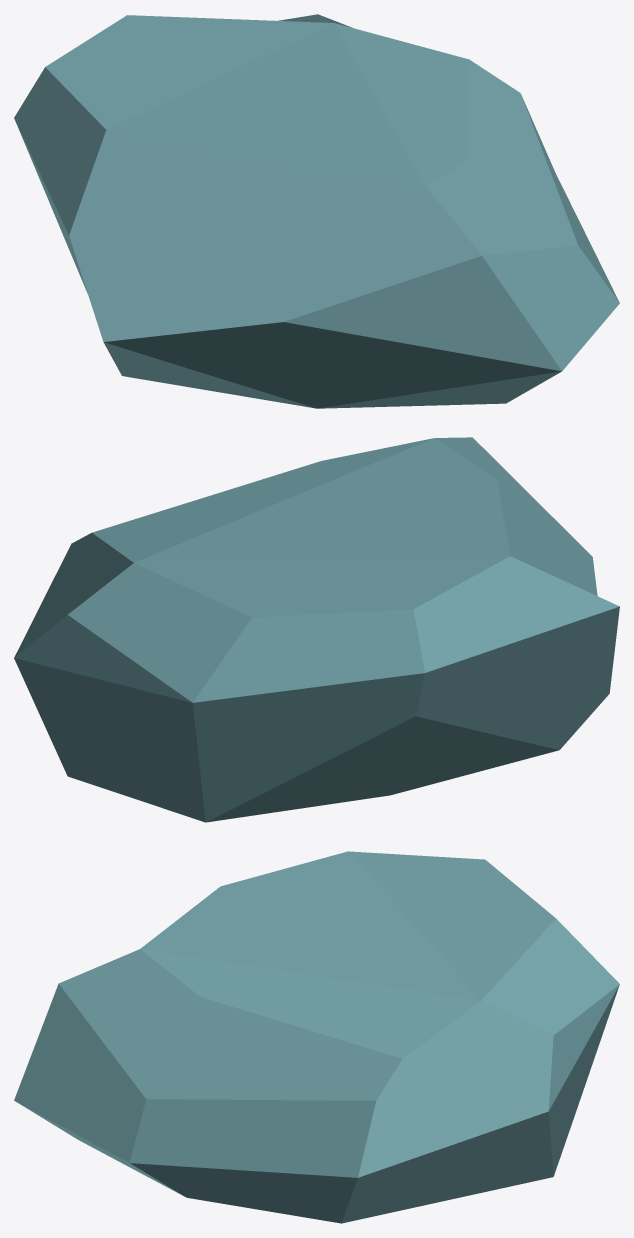
The model's file is RockC.fbx.
3 renders of one model, top to bottom at view 1: azimuth 30°, elevation 25°; view 2: azimuth 150°, elevation 25°; view 3: azimuth 270°, elevation 25°, orthographic. The views are drawn at different scales.
Parts seen in each view (by area): view 1: Cube.013; view 2: Cube.013; view 3: Cube.013.
Boxes of the visible parts, box(x1,y1,x2,y2) form: Cube.013: box(14, 14, 619, 408); Cube.013: box(14, 437, 619, 822); Cube.013: box(14, 851, 619, 1223).
Bounding box in the file's own units: 170 × 67.57 × 197.
